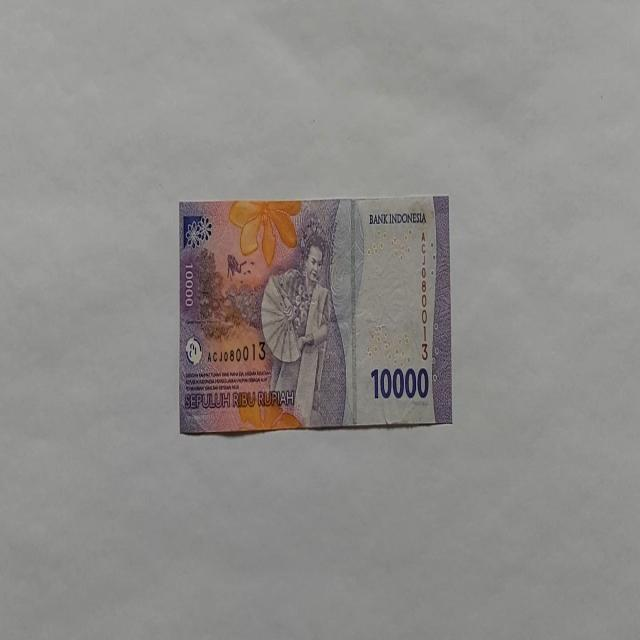sepuluh ribu rupiah: (178, 194, 452, 434)
